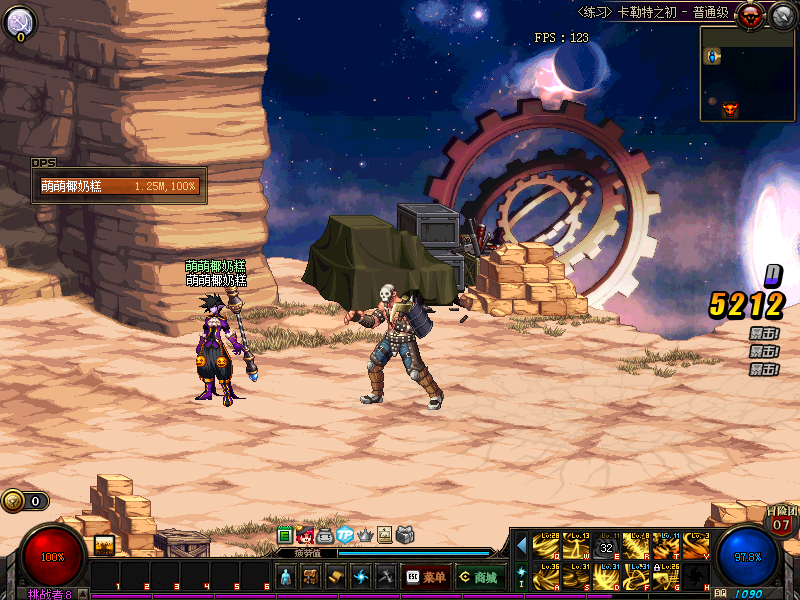BoneMan: (370, 283, 429, 405)
StormRider: (198, 296, 233, 404)
